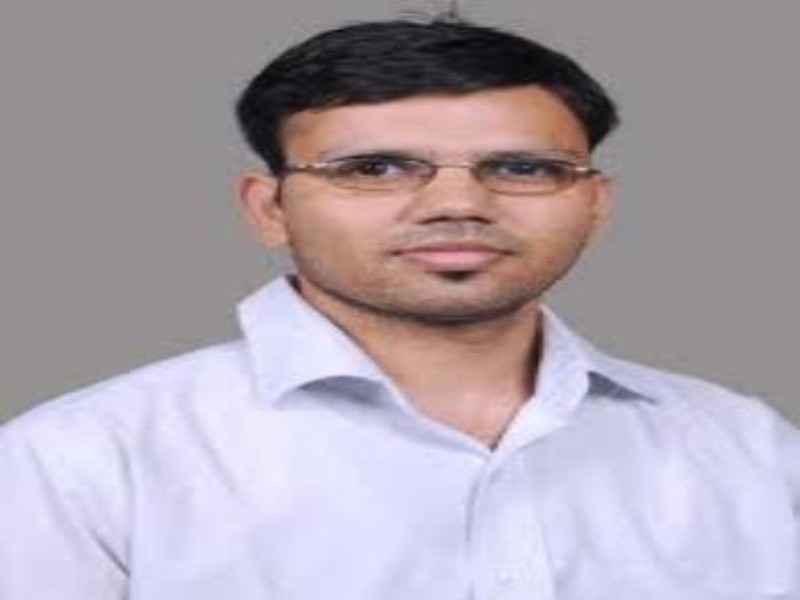TsisyArotava: (229, 17, 644, 380)
